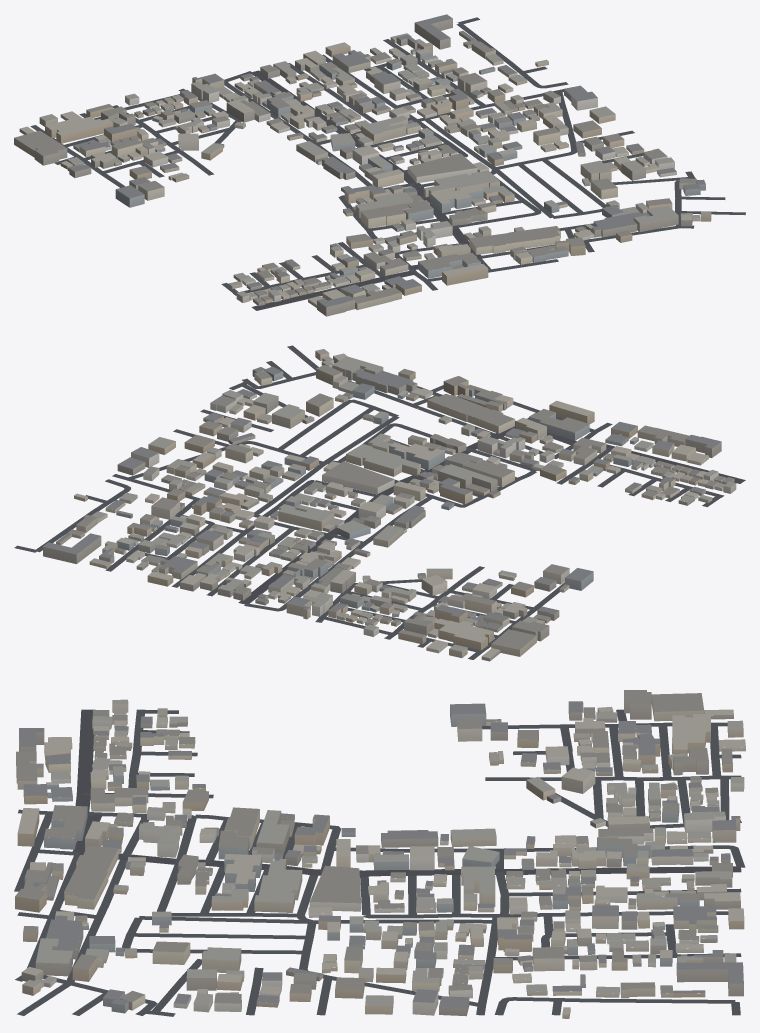
The picture shows the model from 3 angles, top to bottom: view 1: azimuth 30°, elevation 25°; view 2: azimuth 150°, elevation 25°; view 3: azimuth 270°, elevation 25°; orthographic projection. The views are drawn at different scales.
Parts seen in each view (by area): view 1: buildings_roofs, buildings_walls, roads; view 2: buildings_roofs, buildings_walls, roads; view 3: buildings_roofs, buildings_walls, roads.
Boxes of the visible parts, <box> form: buildings_roofs: <box>14,14,711,307</box>; buildings_walls: <box>14,18,711,316</box>; roads: <box>30,17,745,310</box>; buildings_roofs: <box>43,349,735,658</box>; buildings_walls: <box>43,351,736,661</box>; roads: <box>14,345,745,659</box>; buildings_roofs: <box>15,690,745,1014</box>; buildings_walls: <box>15,695,745,1018</box>; roads: <box>14,709,745,1016</box>.
Bounding box in the file's own units: 518 × 9.61 × 506.
